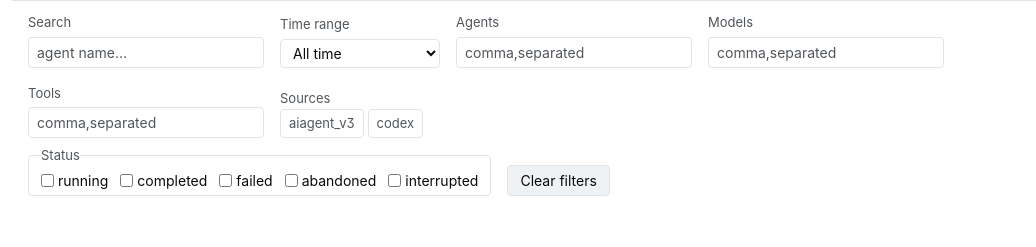
FilterBar › typing in search updates the q param
This screenshot has width=1036, height=247.
Type "abc" into the search field with placeholder "agent name…" at [146, 52], box left=28, top=36, right=264, bottom=68
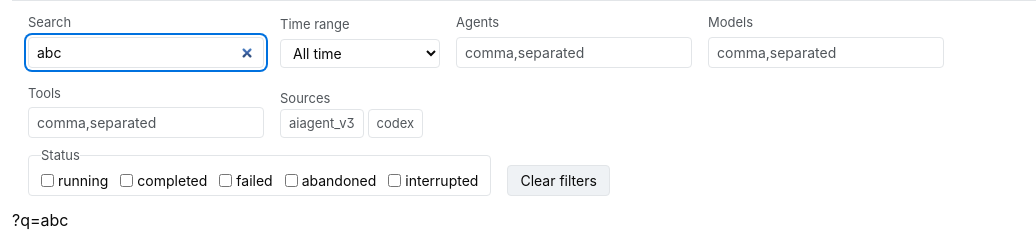
Result: the text with test id "loc" shows "q=abc" at left=12, top=210, right=68, bottom=230
